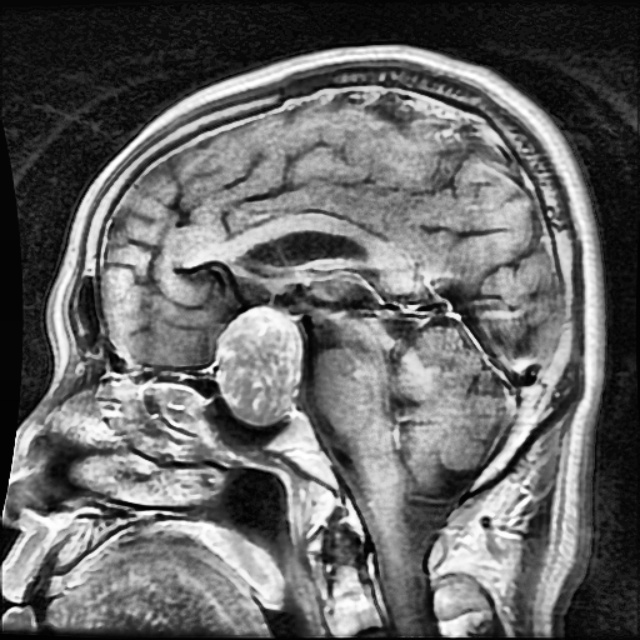Pituitary: (213, 305, 302, 424)
